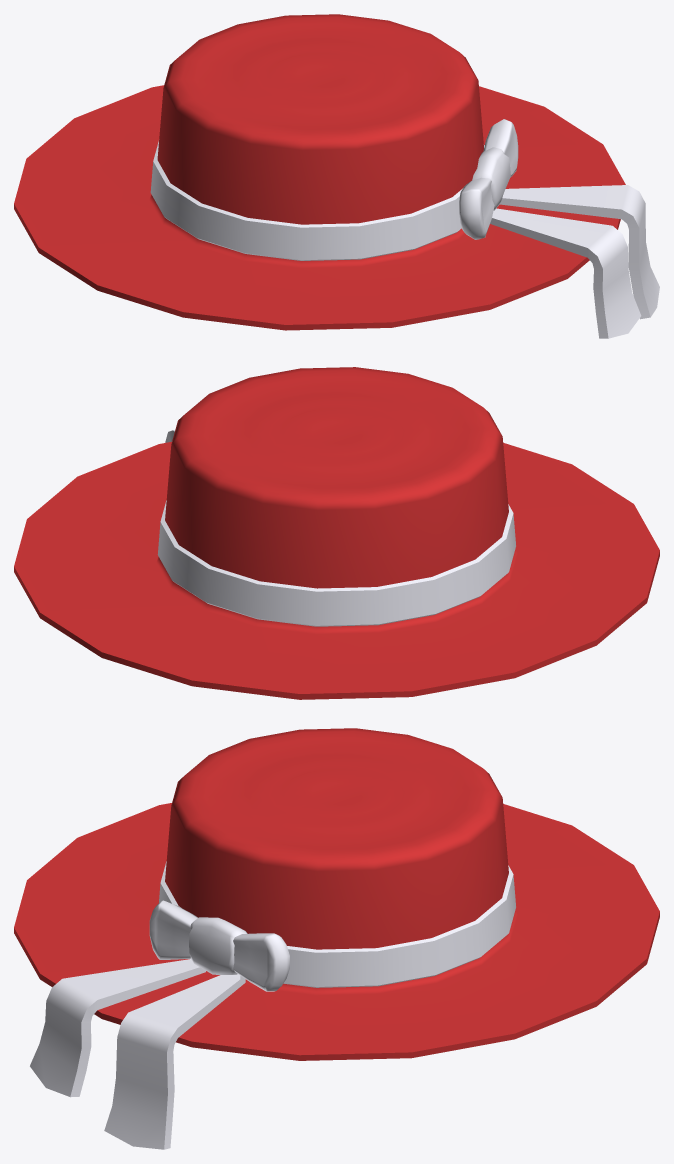
File: Hat_70_03.fbx
3 renders of one model, top to bottom at view 1: azimuth 30°, elevation 25°; view 2: azimuth 150°, elevation 25°; view 3: azimuth 270°, elevation 25°, orthographic. The views are drawn at different scales.
Parts seen in each view (by area): view 1: Hat_70_03; view 2: Hat_70_03; view 3: Hat_70_03.
Boxes of the visible parts, x1=… form: Hat_70_03: x1=14, y1=14, x2=659, y2=338; Hat_70_03: x1=14, y1=367, x2=659, y2=699; Hat_70_03: x1=14, y1=728, x2=659, y2=1149.
Bounding box in the file's own units: 56.8 × 22.76 × 57.08.
